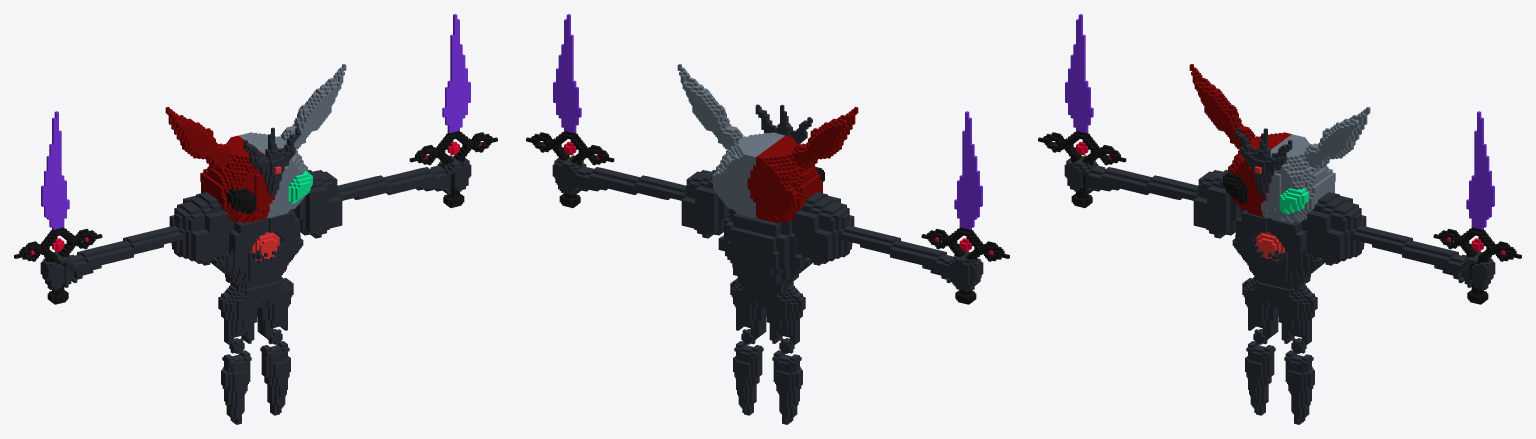
Rendered from annonin_second.obj.
3 renders of one model, left to right at view 1: azimuth 30°, elevation 25°; view 2: azimuth 150°, elevation 25°; view 3: azimuth 330°, elevation 25°, orthographic.
Bounding box in the file's own units: 17.8 × 12.5 × 2.5.
1 material, 1 textured.
